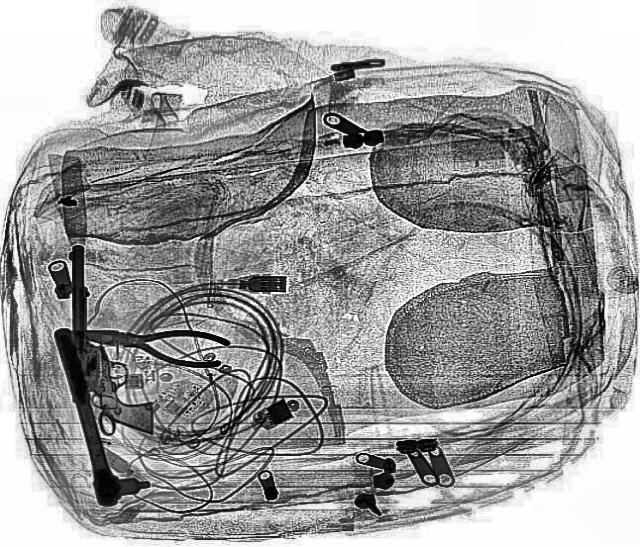Gun: (68, 246, 108, 392), (97, 348, 153, 434)
Pliers: (70, 312, 230, 372)
